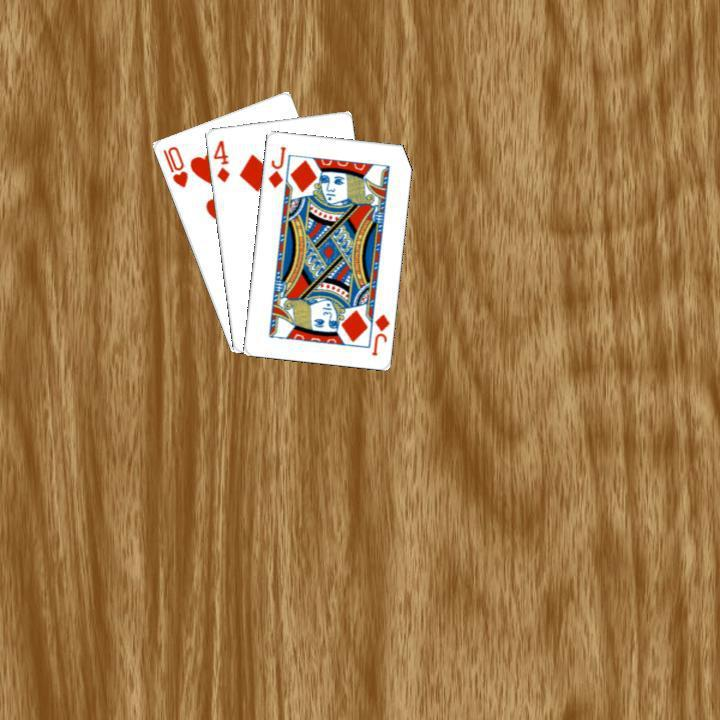10: (158, 142, 190, 189)
4: (209, 135, 231, 184)
J: (263, 142, 288, 190), (367, 309, 391, 357)
